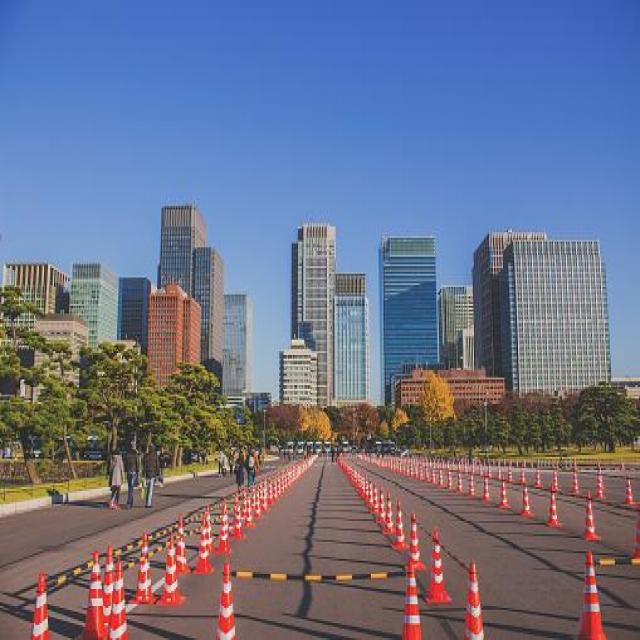Cone: (576, 547, 607, 640), (425, 529, 450, 606), (88, 557, 109, 640), (216, 562, 238, 640), (464, 562, 486, 640), (161, 538, 185, 608), (29, 570, 51, 640), (400, 566, 419, 640), (136, 538, 156, 602), (112, 555, 126, 640), (407, 510, 425, 572), (409, 510, 426, 572), (584, 491, 602, 544), (391, 502, 407, 551), (218, 504, 232, 553), (197, 521, 210, 572), (232, 496, 246, 540), (518, 480, 533, 518), (547, 482, 559, 528), (622, 476, 635, 506), (244, 492, 255, 526), (499, 474, 509, 510), (377, 485, 386, 521), (482, 470, 492, 502), (465, 472, 477, 498), (571, 466, 581, 495), (596, 464, 604, 500), (551, 466, 561, 491), (371, 482, 378, 516), (456, 472, 464, 495), (448, 468, 452, 491), (438, 468, 442, 487), (432, 468, 436, 482)
